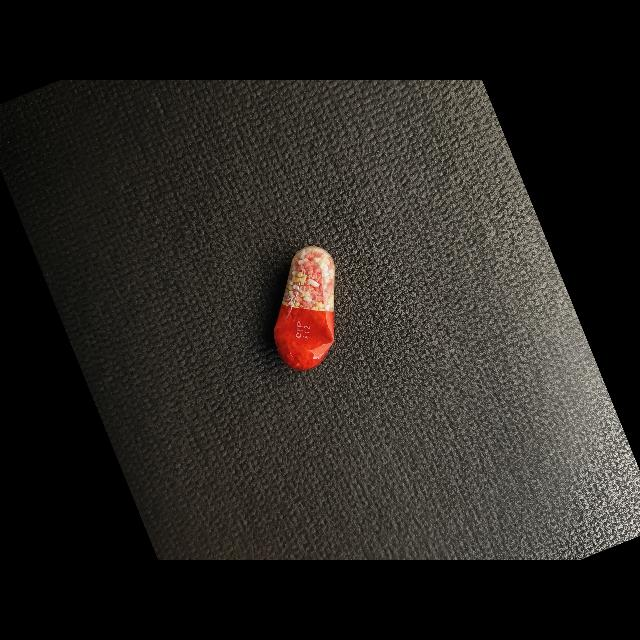Defective Capsule: (274, 246, 335, 370)
